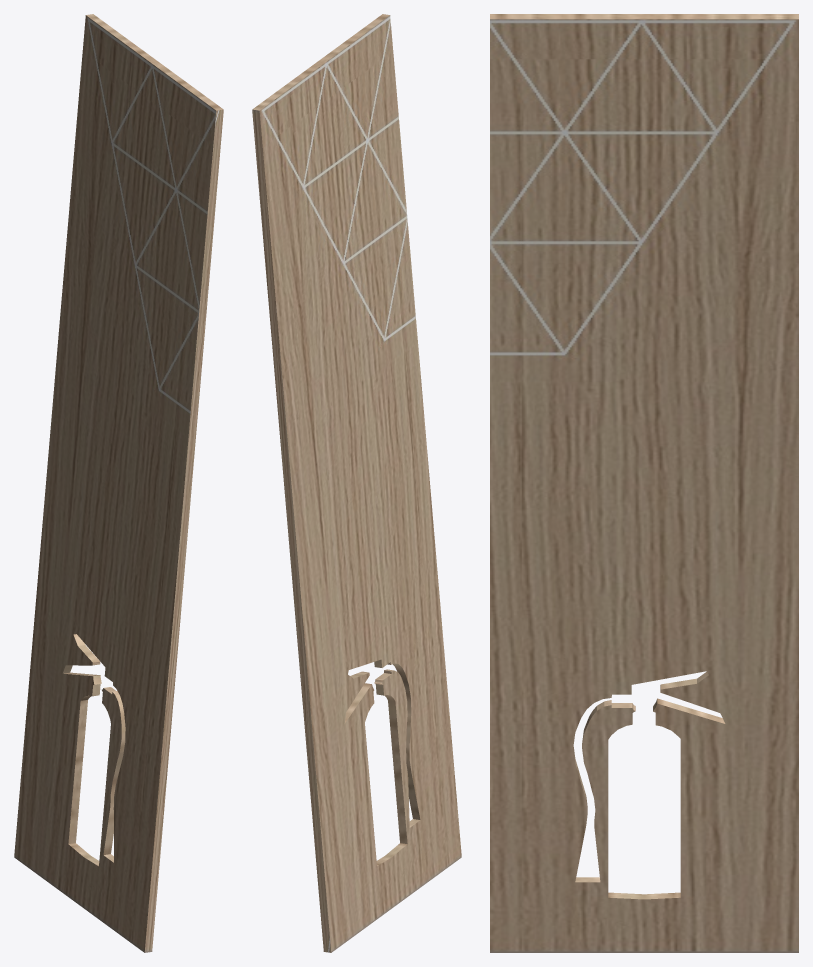
File: AITHOUSA I_a_part1.fbx
The picture shows the model from 3 angles, left to right: view 1: azimuth 30°, elevation 25°; view 2: azimuth 150°, elevation 25°; view 3: azimuth 270°, elevation 25°; orthographic projection. The views are drawn at different scales.
Visible parts, largest first — view 1: Mass Element <Standard> Body; view 2: Mass Element <Standard> Body; view 3: Mass Element <Standard> Body.
Part boxes in pixels (bbox=[...]): Mass Element <Standard> Body: bbox=[14, 14, 223, 952]; Mass Element <Standard> Body: bbox=[252, 14, 461, 952]; Mass Element <Standard> Body: bbox=[490, 14, 798, 952].
Bounding box in the file's own units: 0.21 × 2.09 × 0.6.
Materials: 1 (1 with a texture image).
